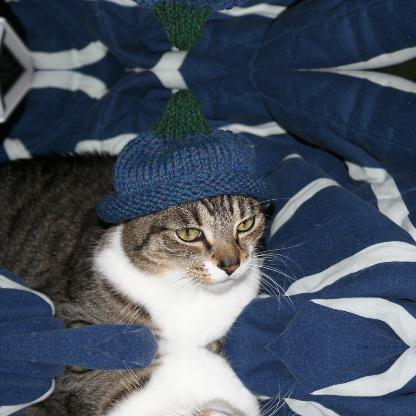Cat: (0, 148, 308, 346), (0, 346, 309, 415)
